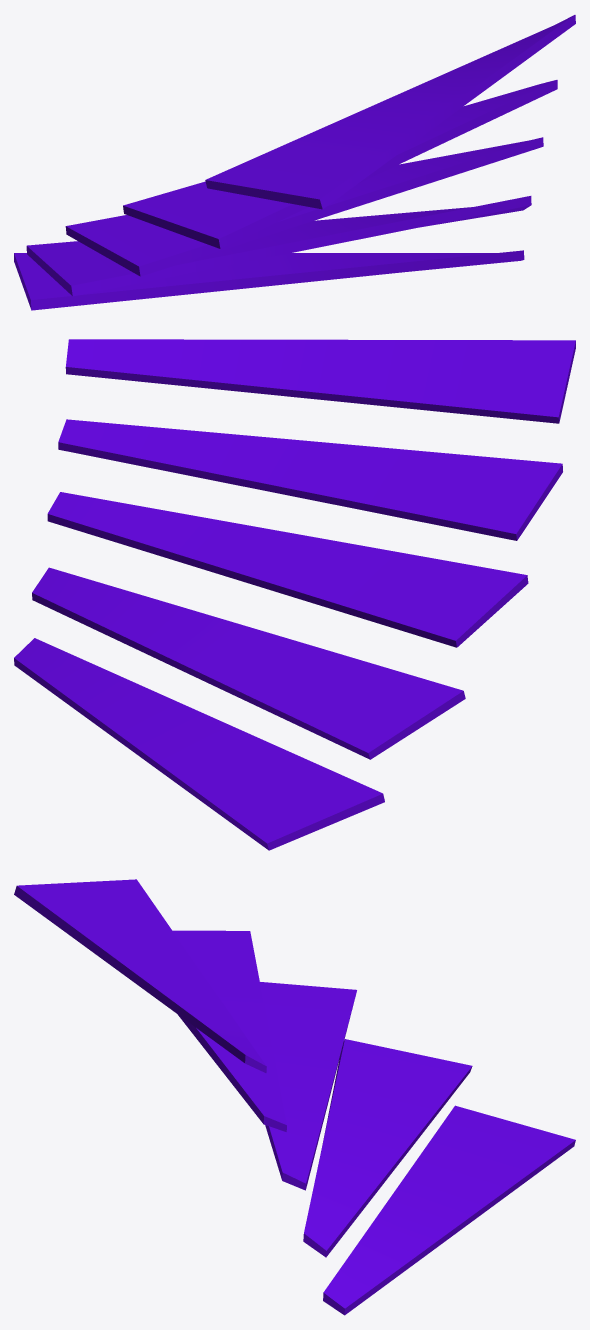
File: Stone_Stairs_Small_Bend_B.fbx
3 views of the same model, one above another, from view 1: azimuth 30°, elevation 25°; view 2: azimuth 150°, elevation 25°; view 3: azimuth 270°, elevation 25° (orthographic). The views are drawn at different scales.
Parts seen in each view (by area): view 1: Stone_Stairs_Small_Bend_B; view 2: Stone_Stairs_Small_Bend_B; view 3: Stone_Stairs_Small_Bend_B.
Part boxes in pixels (x1,y1,x2,y2): Stone_Stairs_Small_Bend_B: [14, 15, 575, 310]; Stone_Stairs_Small_Bend_B: [14, 339, 575, 850]; Stone_Stairs_Small_Bend_B: [14, 879, 575, 1315].
Size of the model in its own units: 203 by 123 by 241.
